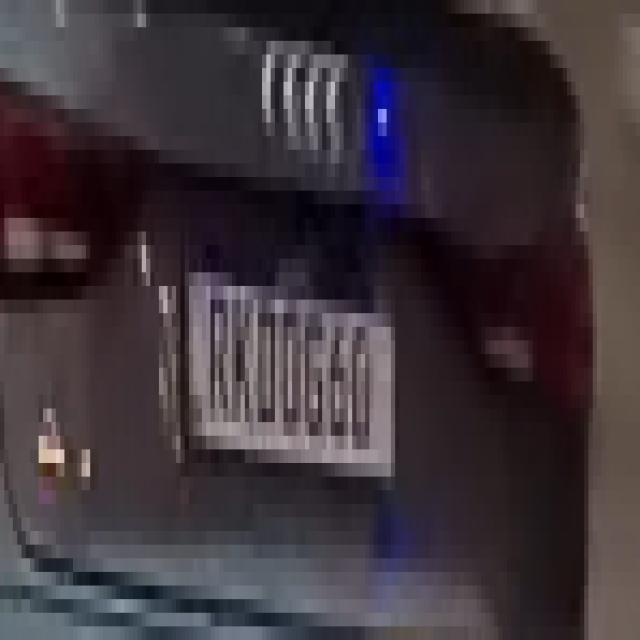Placa_mercosul_carro: (186, 266, 398, 473)
